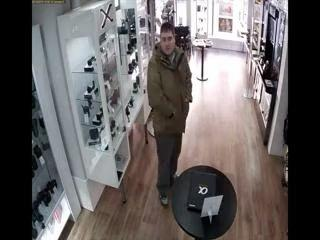shoplifting: (150, 92, 183, 129)
